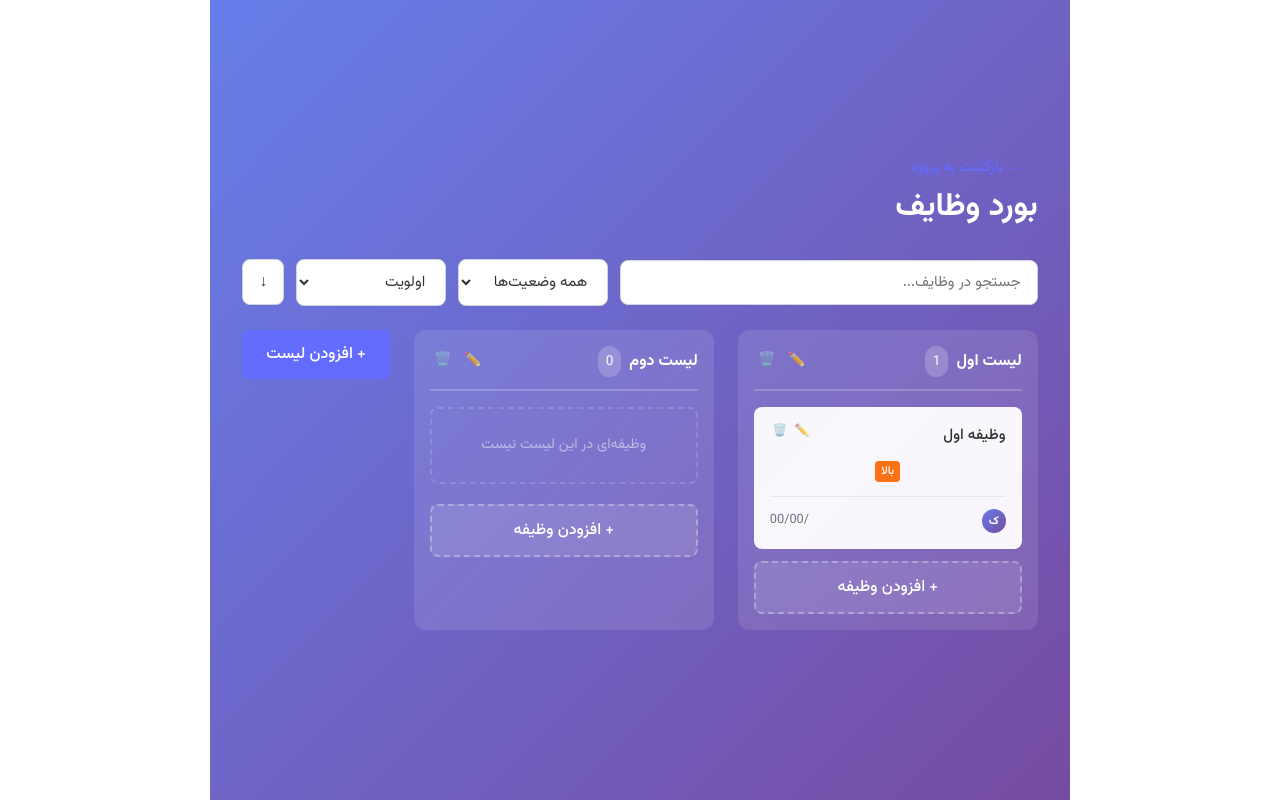
Test: TaskBoard › Edit list › updates list name successfully
Check: the heading "لیست اول" is shown, box top-left (956, 348), bottom-right (1022, 375)
Click the button "✏️" in the row of "لیست اول". click: (797, 362)
box: top-left (784, 350), bottom-right (810, 373)
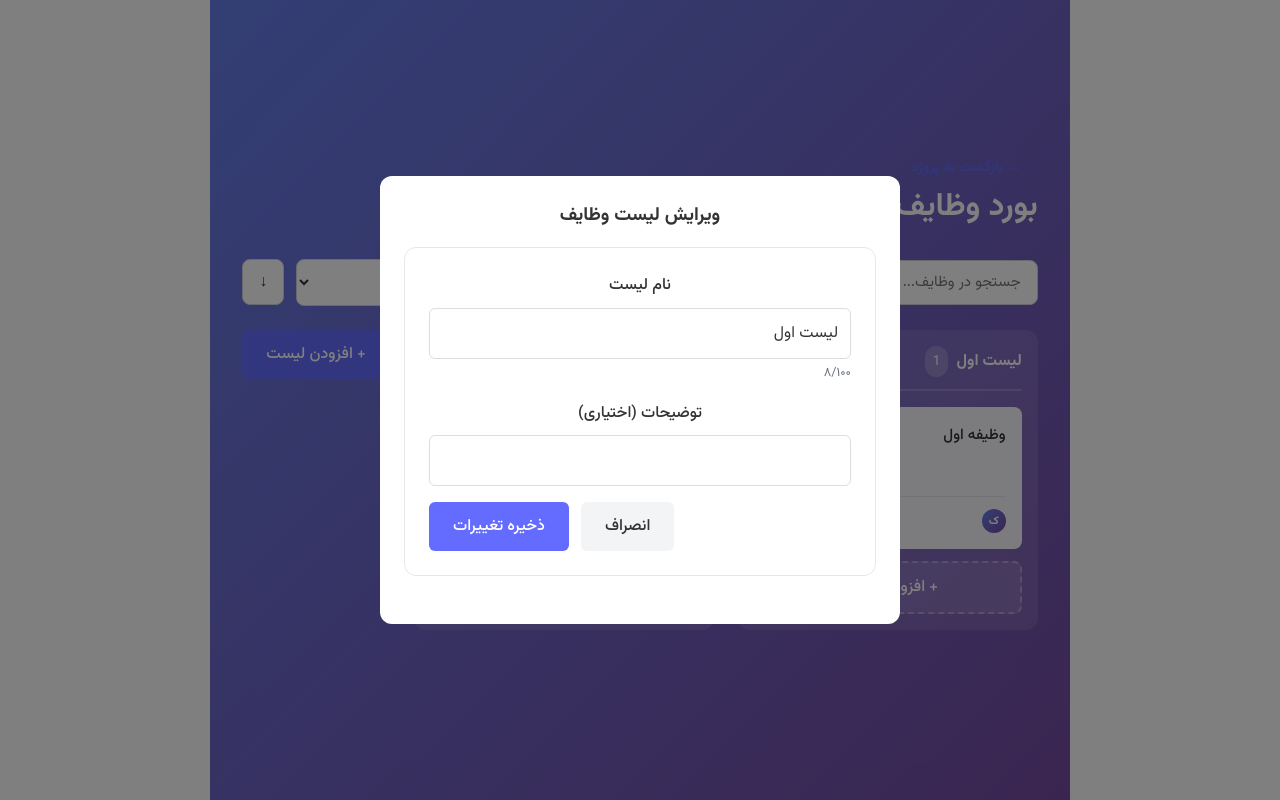
Clear the field showing "لیست اول" below "نام لیست". click: (640, 333)
box: top-left (429, 308), bottom-right (851, 358)
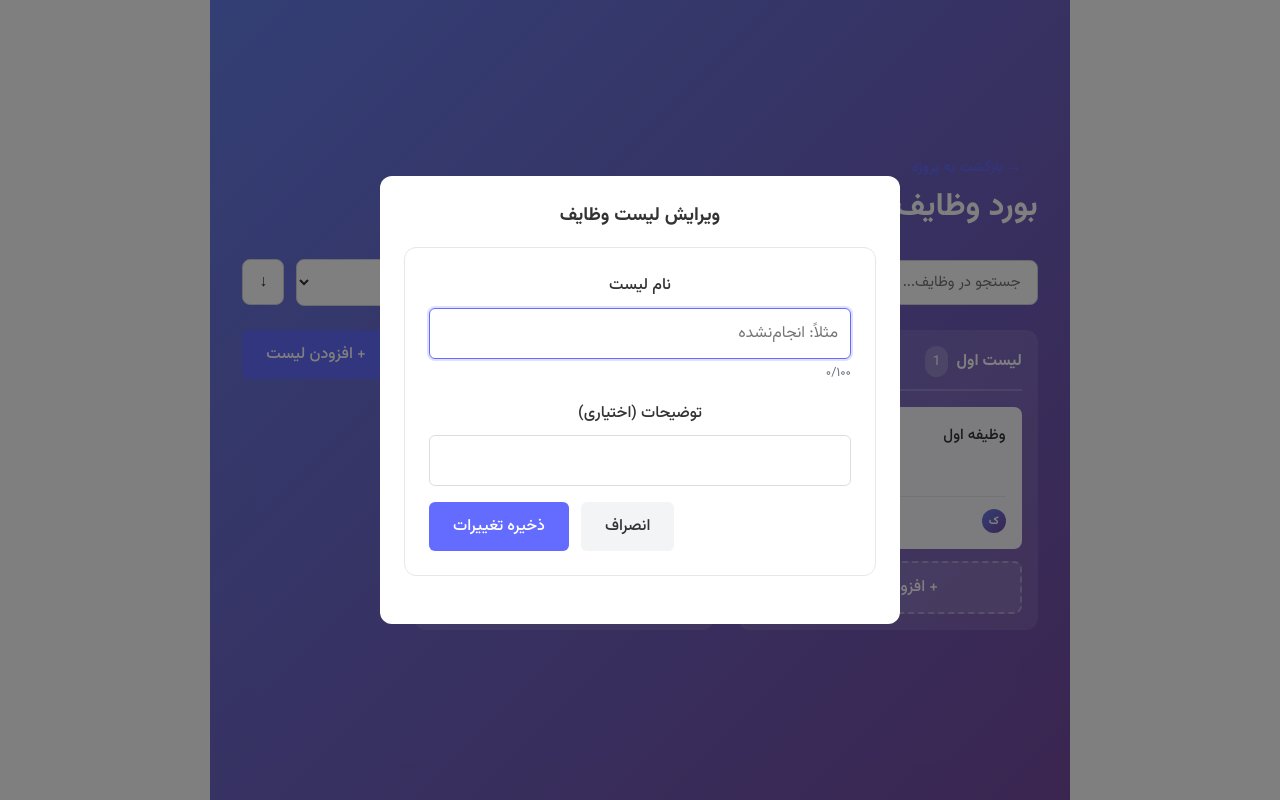
Type keys "نام ویرایش‌شده"
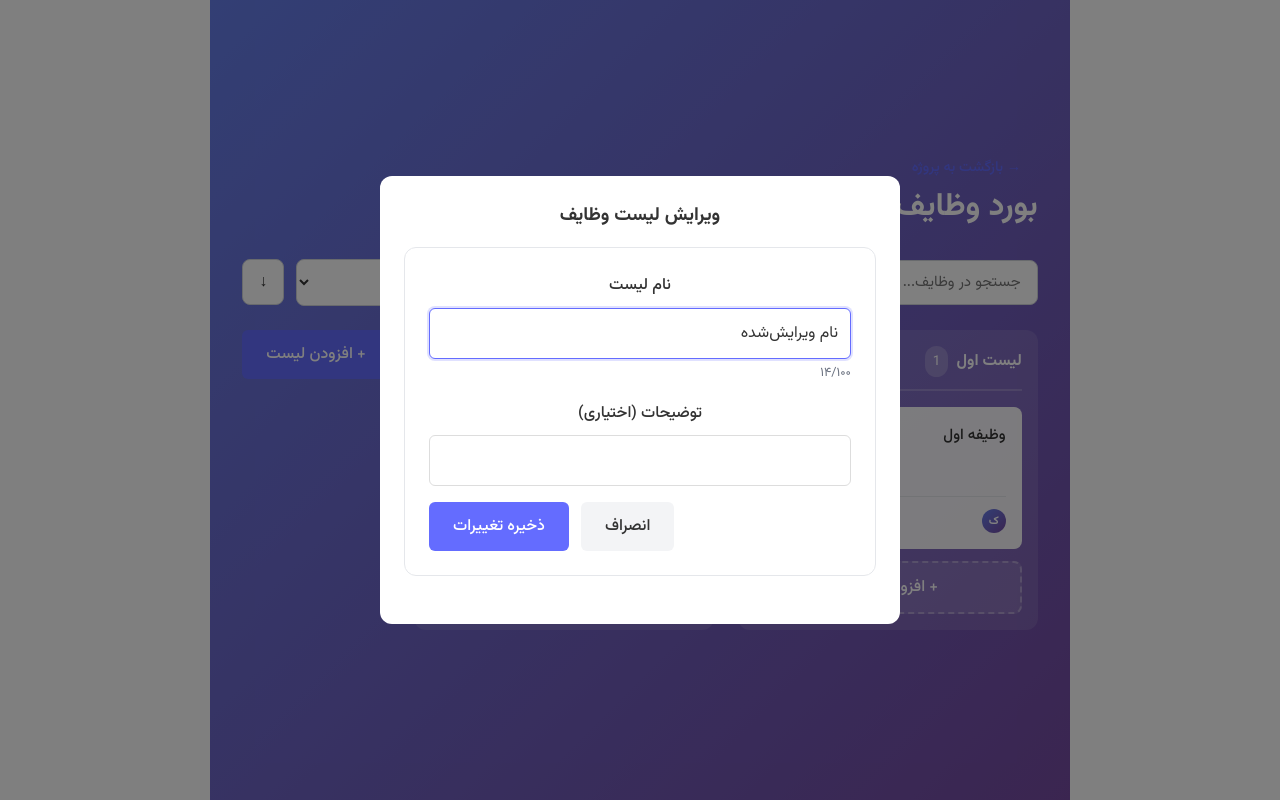
Click the button "ذخیره تغییرات". click: (499, 527)
box: top-left (429, 502), bottom-right (569, 552)
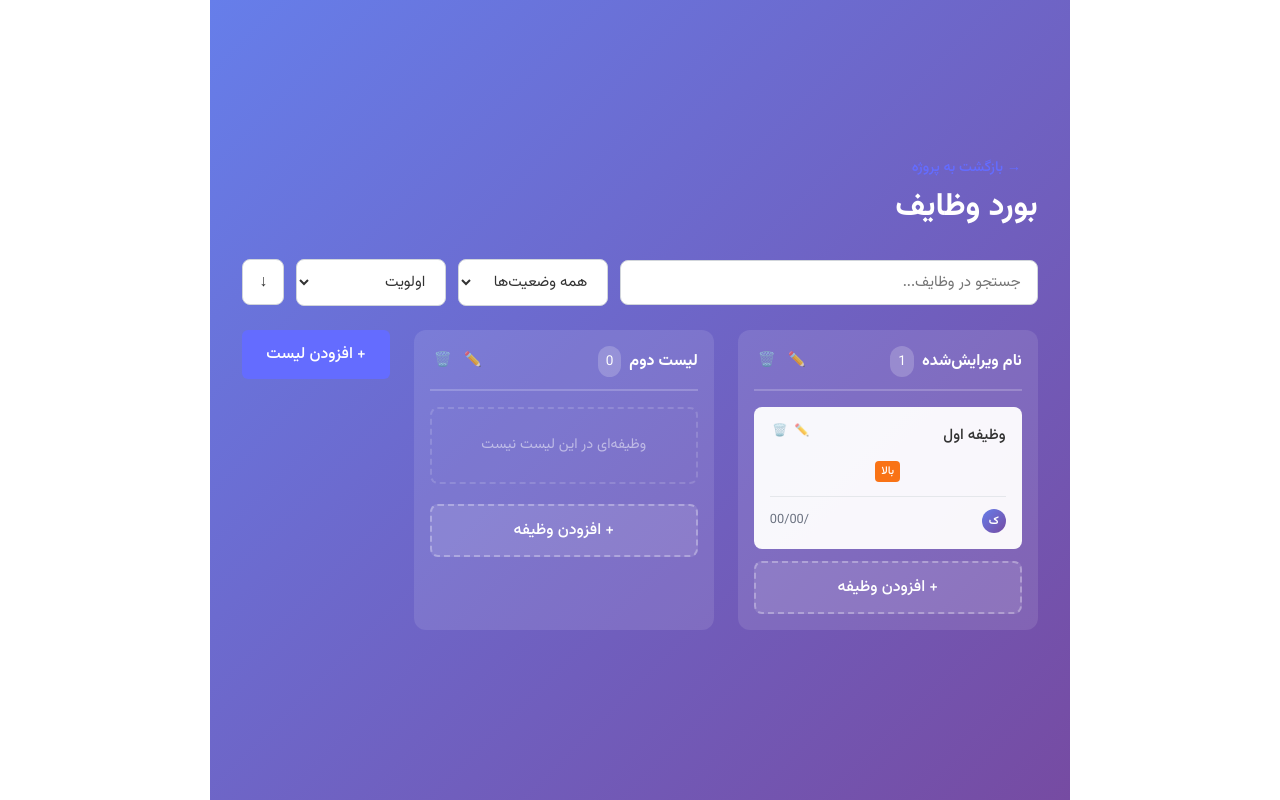
Check: the heading "نام ویرایش‌شده" is shown, box top-left (922, 348), bottom-right (1022, 375)
